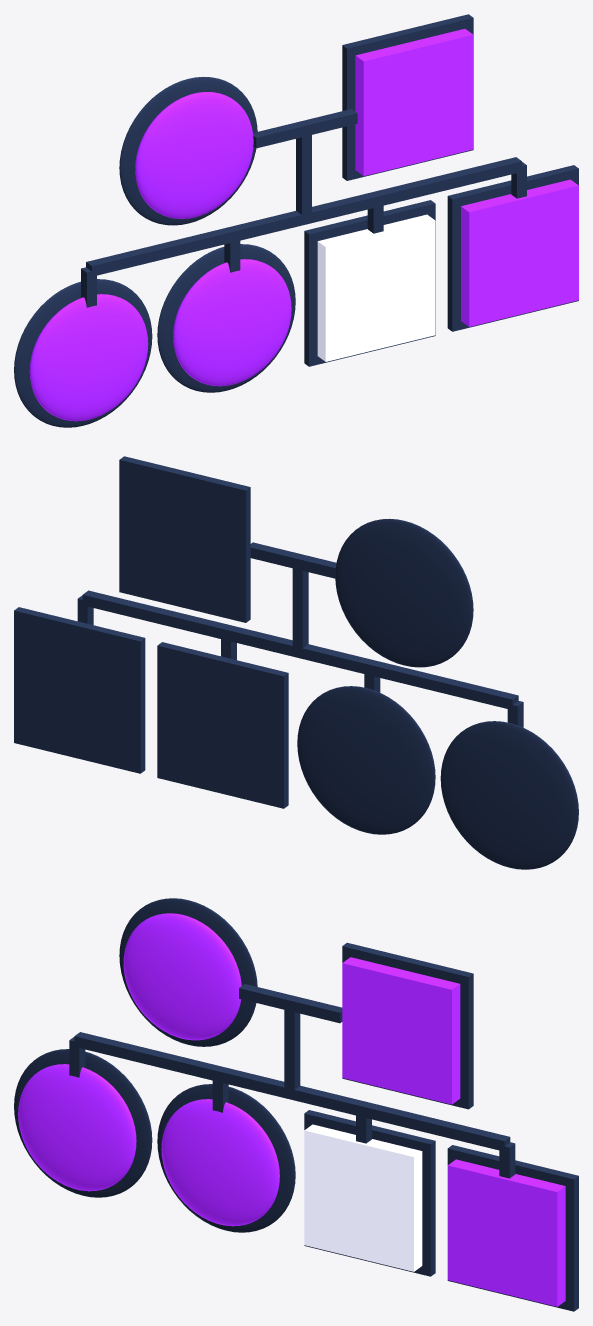
The model's file is pedigree.glb.
The picture shows the model from 3 angles, top to bottom: view 1: azimuth 30°, elevation 25°; view 2: azimuth 150°, elevation 25°; view 3: azimuth 330°, elevation 25°; orthographic projection.
Visible parts, largest first — view 1: fatherS, child2S, child3S, motherS, child1S, child0S, bar, motherO, child1O, child0O, fatherO, child2O (+4 smaller); view 2: fatherO, child2O, child3O, motherO, child1O, child0O, bar, marry, drop; view 3: fatherS, child3S, child2S, motherS, child0S, child1S, bar, motherO, child0O, child1O, fatherO, child3O (+5 smaller).
Boxes of the visible parts, bbox=[...] form: fatherS: bbox=[355, 29, 473, 175]; child2S: bbox=[317, 214, 435, 361]; child3S: bbox=[461, 179, 578, 326]; motherS: bbox=[135, 92, 253, 218]; child1S: bbox=[173, 259, 291, 386]; child0S: bbox=[29, 294, 148, 421]; bar: bbox=[86, 157, 521, 276]; motherO: bbox=[119, 76, 257, 225]; child1O: bbox=[157, 244, 295, 392]; child0O: bbox=[14, 279, 152, 427]; fatherO: bbox=[342, 14, 473, 180]; child2O: bbox=[304, 200, 435, 366]; fatherO: bbox=[119, 456, 250, 622]; child2O: bbox=[157, 642, 288, 808]; child3O: bbox=[14, 607, 145, 773]; motherO: bbox=[335, 518, 473, 667]; child1O: bbox=[297, 686, 435, 834]; child0O: bbox=[440, 721, 578, 869]; bar: bbox=[82, 590, 518, 709]; marry: bbox=[250, 542, 336, 578]; drop: bbox=[292, 565, 308, 648]; fatherS: bbox=[342, 957, 460, 1104]; child3S: bbox=[447, 1159, 565, 1306]; child2S: bbox=[304, 1124, 422, 1271]; motherS: bbox=[123, 913, 241, 1040]; child0S: bbox=[18, 1064, 136, 1191]; child1S: bbox=[161, 1099, 279, 1226]; bar: bbox=[74, 1032, 510, 1151]; motherO: bbox=[119, 898, 257, 1046]; child0O: bbox=[14, 1049, 152, 1197]; child1O: bbox=[157, 1084, 295, 1232]; fatherO: bbox=[342, 942, 473, 1109]; child3O: bbox=[447, 1145, 578, 1311].
Size of what is drawn, in the model's own units: 0.667 by 0.364 by 0.03.
